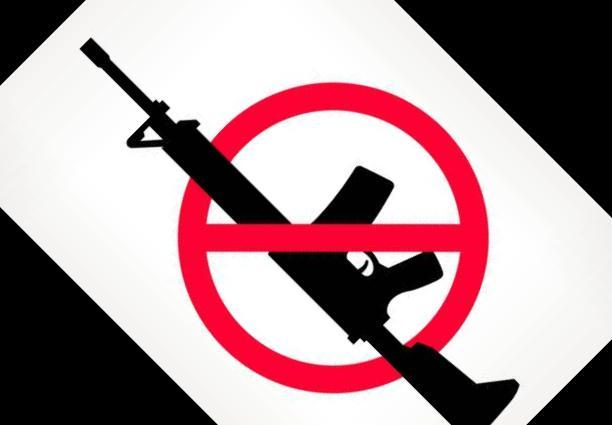larga: (79, 37, 523, 425)
